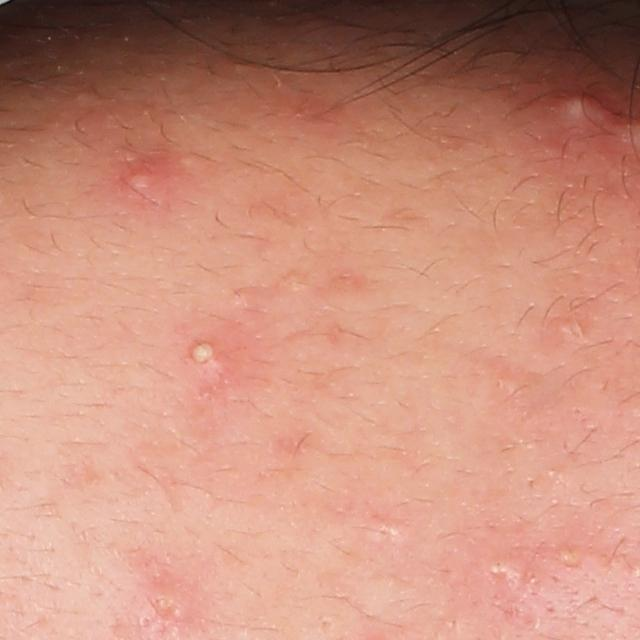pustule: (180, 328, 238, 392), (136, 580, 196, 638), (483, 552, 528, 587), (553, 537, 592, 577)
